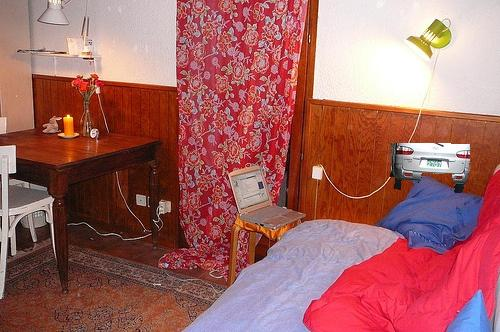tampered: (391, 144, 470, 193)
